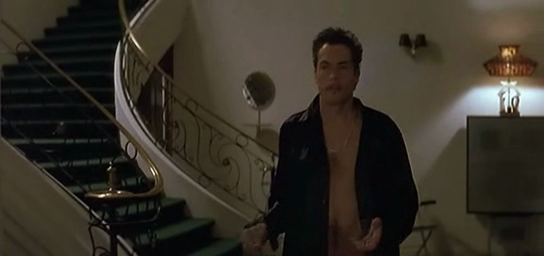face: (317, 52, 356, 103)
ms: (1, 1, 544, 256)
person: (262, 27, 420, 255)
